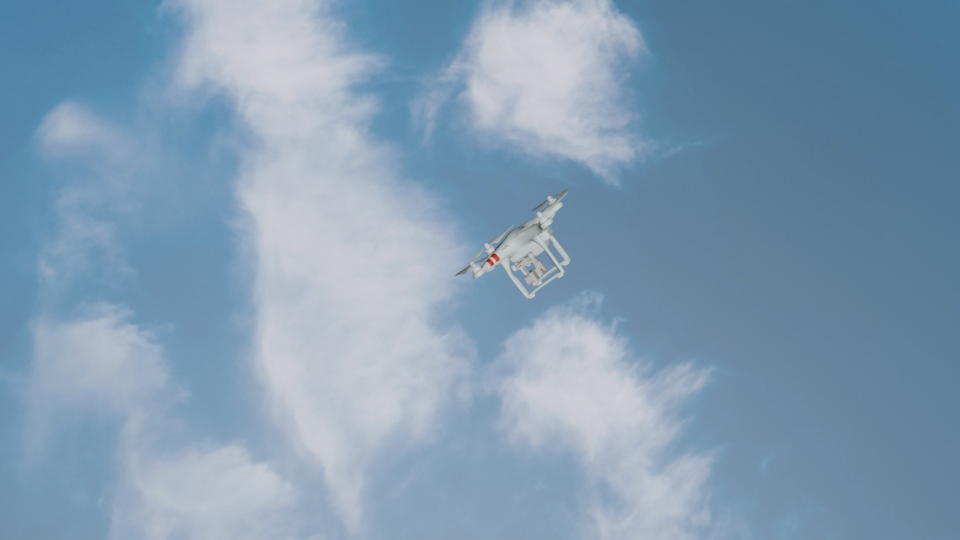drone: (455, 192, 572, 299)
